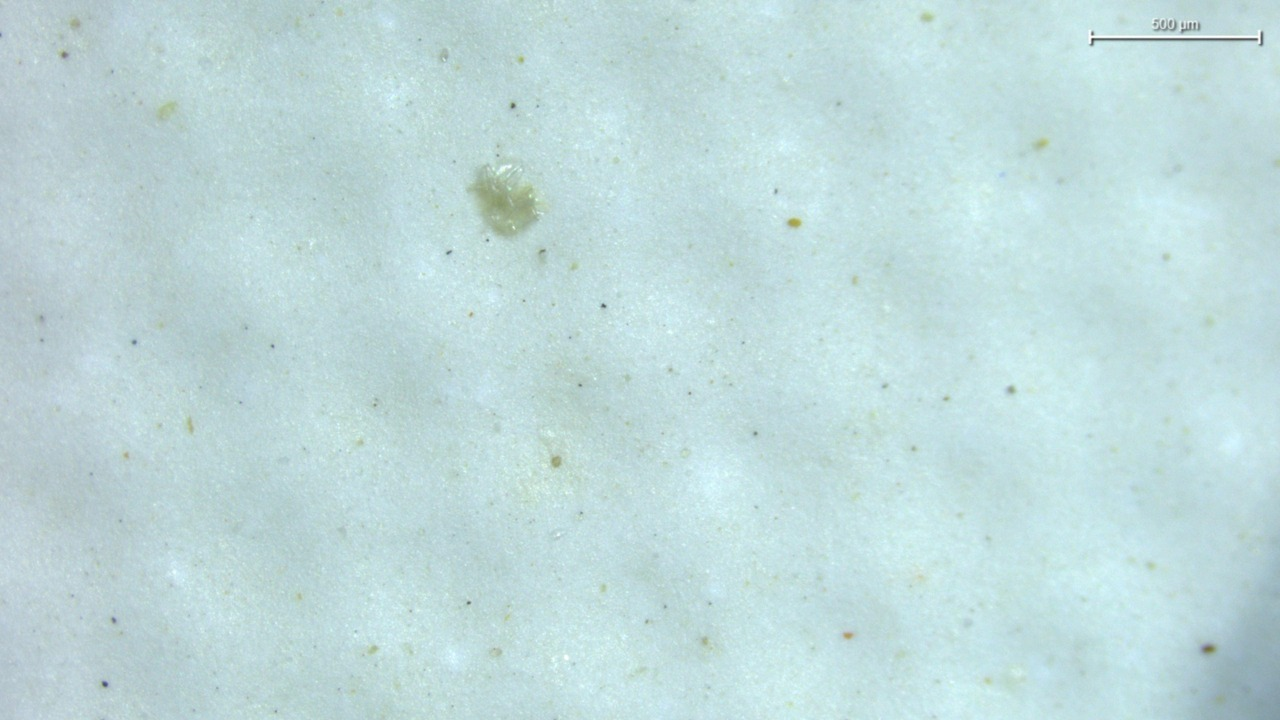microplastic_fragment: (471, 164, 543, 235)
